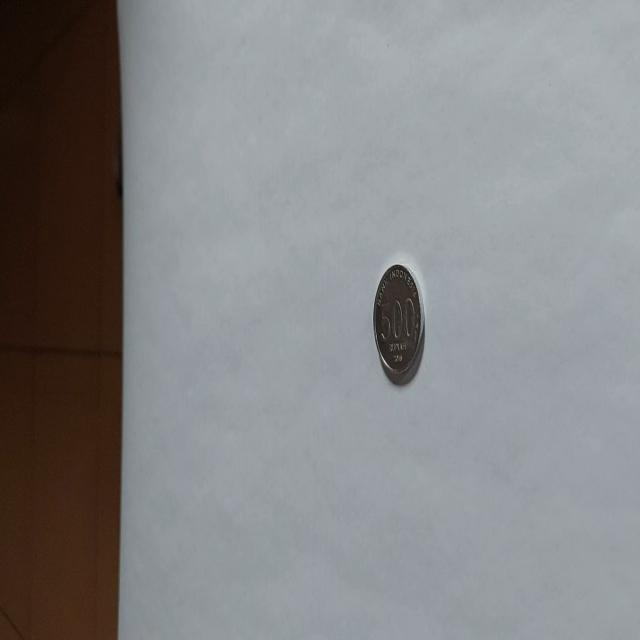lima ratus rupiah: (372, 262, 424, 385)
